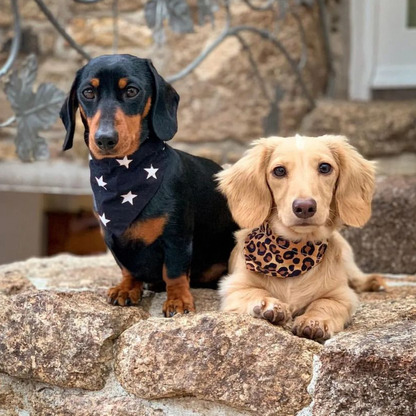dachshund: (45, 50, 215, 315), (215, 116, 390, 343)
